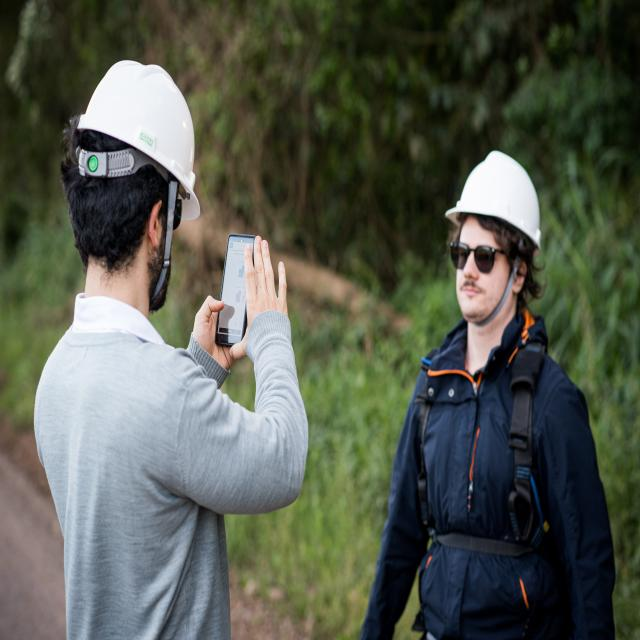capacete: (72, 59, 202, 221), (443, 148, 545, 258)
corda de vida: (410, 325, 550, 640)
